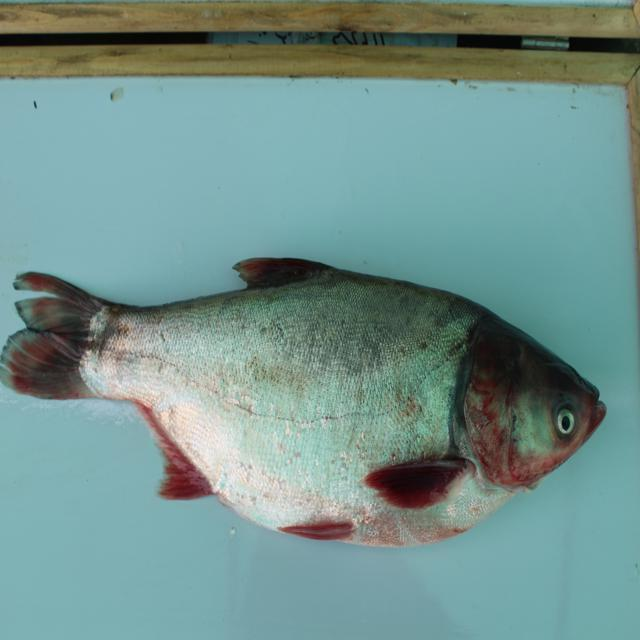Silver Barb: (4, 253, 612, 553)
